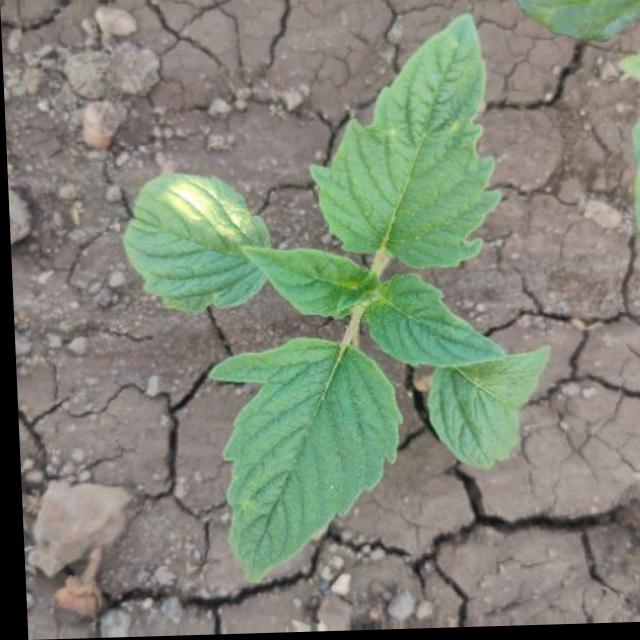crop: (111, 18, 556, 591)
